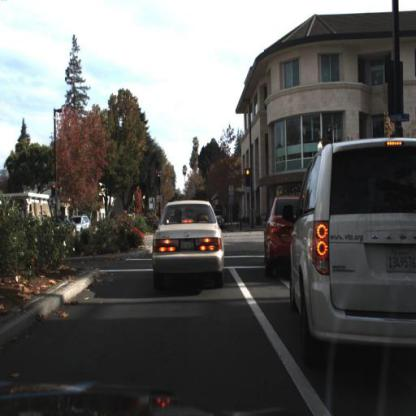car: (283, 133, 416, 339), (147, 198, 228, 296), (263, 192, 301, 285), (39, 211, 75, 238), (71, 212, 94, 239)
pedestrian: (236, 205, 246, 236), (237, 207, 244, 232)
trafficLight-Red: (244, 167, 251, 189), (51, 183, 58, 201), (158, 175, 163, 189)
